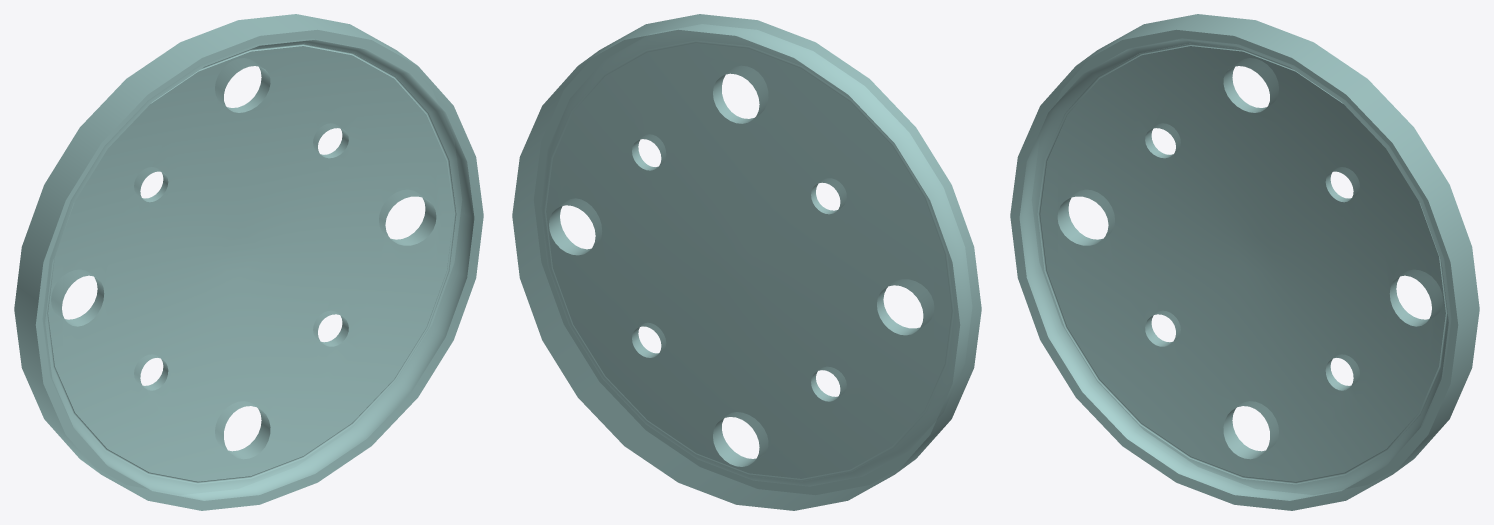
The model's file is original-14.obj.
The picture shows the model from 3 angles, left to right: view 1: azimuth 30°, elevation 25°; view 2: azimuth 150°, elevation 25°; view 3: azimuth 330°, elevation 25°; orthographic projection.
Parts seen in each view (by area): view 1: WHEEL_1_2/WHEEL_1/mesh1/mesh1-geometry#mesh1-geometry; view 2: WHEEL_1_2/WHEEL_1/mesh1/mesh1-geometry#mesh1-geometry; view 3: WHEEL_1_2/WHEEL_1/mesh1/mesh1-geometry#mesh1-geometry.
Boxes of the visible parts, bbox=[...] form: WHEEL_1_2/WHEEL_1/mesh1/mesh1-geometry#mesh1-geometry: bbox=[14, 14, 483, 510]; WHEEL_1_2/WHEEL_1/mesh1/mesh1-geometry#mesh1-geometry: bbox=[512, 14, 981, 510]; WHEEL_1_2/WHEEL_1/mesh1/mesh1-geometry#mesh1-geometry: bbox=[1010, 14, 1479, 510].
Bounding box in the file's own units: 0.0833 × 0.0833 × 0.00694.
